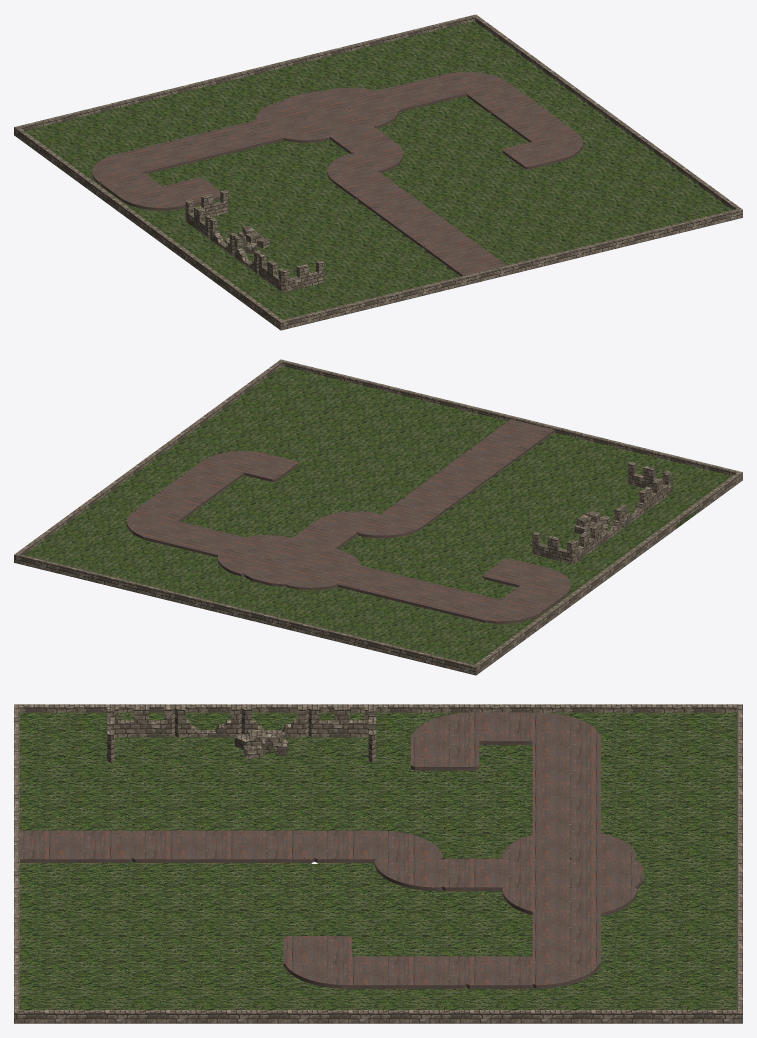
Rendered from GroundFBX.model.fbx.
3 views of the same model, one above another, from view 1: azimuth 30°, elevation 25°; view 2: azimuth 150°, elevation 25°; view 3: azimuth 270°, elevation 25° (orthographic). The views are drawn at different scales.
Visible parts, largest first — view 1: battlement_corner_184, floor_square_20, battlement_corner_185, corner_14, floor_square_1, floor_square_179, floor_square_3, floor_square_182, floor_square_4, floor_squareGallery%_170, floor_square_0, corner_3 (+122 smaller); view 2: battlement_corner_185, floor_squareGallery%_170, floor_square_18, floor_square_17, corner_25, floor_square_4, battlement_corner_184, floor_square_179, floor_square_21, floor_square_182, floor_square_3, floor_square_0 (+125 smaller); view 3: floor_square_0, floor_square_3, floor_square_182, floor_square_179, floor_square_4, floor_square_178, floor_square_23, floor_square_181, floor_square_25, floor_squareGallery%_170, floor_square_180, battlement_corner_185 (+147 smaller).
Boxes of the visible parts, box(x1,y1,x2,y2) form: battlement_corner_184: box(259, 253, 324, 291); floor_square_20: box(146, 137, 211, 167); battlement_corner_185: box(185, 190, 228, 237); corner_14: box(258, 301, 319, 330); floor_square_1: box(412, 72, 476, 102); floor_square_179: box(358, 187, 423, 216); floor_square_3: box(467, 83, 532, 112); floor_square_182: box(425, 236, 489, 265); floor_square_4: box(491, 101, 556, 130); floor_squareGallery%_170: box(283, 91, 347, 119); floor_square_0: box(329, 125, 394, 153); corner_3: box(683, 193, 742, 226); battlement_corner_185: box(532, 525, 597, 563); floor_squareGallery%_170: box(244, 556, 309, 586); floor_square_18: box(331, 565, 395, 594); floor_square_17: box(237, 452, 298, 481); corner_25: box(437, 646, 498, 675); floor_square_4: box(160, 475, 225, 505); battlement_corner_184: box(628, 462, 671, 509); floor_square_179: box(404, 480, 469, 510); floor_square_21: box(446, 593, 511, 622); floor_square_182: box(471, 432, 536, 461); floor_square_3: box(135, 493, 201, 521); floor_square_0: box(291, 522, 356, 550); floor_square_0: box(441, 858, 509, 891); floor_square_3: box(465, 956, 534, 988); floor_square_182: box(65, 830, 133, 862); floor_square_179: box(247, 830, 315, 862); floor_square_4: box(399, 956, 467, 988); floor_square_178: box(314, 830, 382, 862); floor_square_23: box(465, 712, 532, 744); floor_square_181: box(131, 830, 199, 862); floor_square_25: box(411, 738, 479, 770); floor_squareGallery%_170: box(569, 859, 643, 889); floor_square_180: box(192, 830, 260, 862); battlement_corner_185: box(308, 706, 376, 762).
Bounding box in the file's own units: 120 × 6 × 120.
3 materials, 3 textured.
